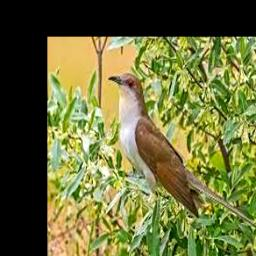Cuckoo: (107, 72, 256, 235)
